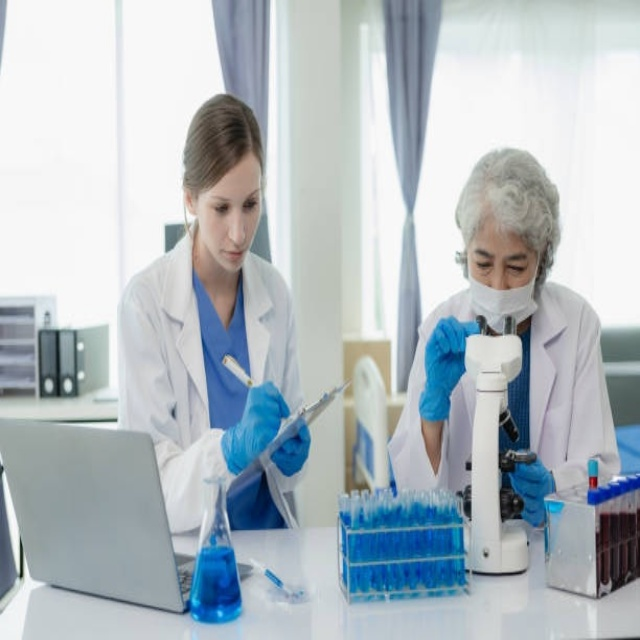Guantes: (221, 380, 301, 476), (418, 316, 481, 422), (509, 454, 554, 528), (271, 417, 317, 480)
Mascara: (467, 249, 540, 332)
Sin_gafas: (470, 238, 531, 275), (206, 184, 262, 215)
Sin_mascara: (218, 243, 248, 271)
